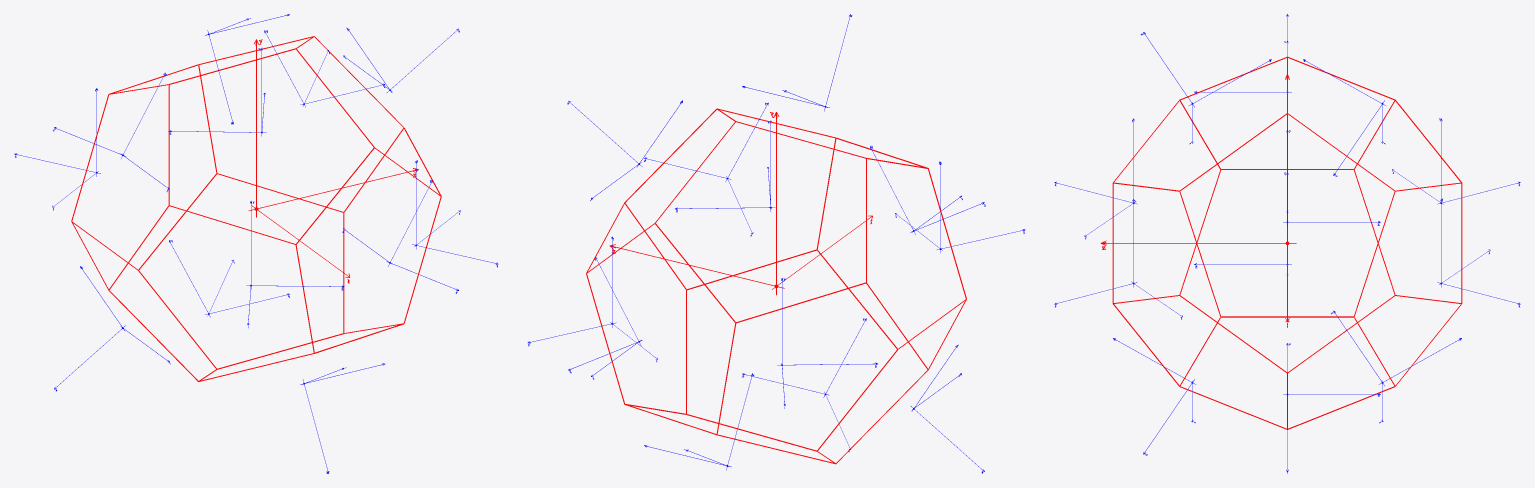
The model's file is Rotated.glb.
The picture shows the model from 3 angles, left to right: view 1: azimuth 30°, elevation 25°; view 2: azimuth 150°, elevation 25°; view 3: azimuth 270°, elevation 25°; orthographic projection. The views are drawn at different scales.
Bounding box in the file's own units: 2.51 × 2.51 × 2.5.
